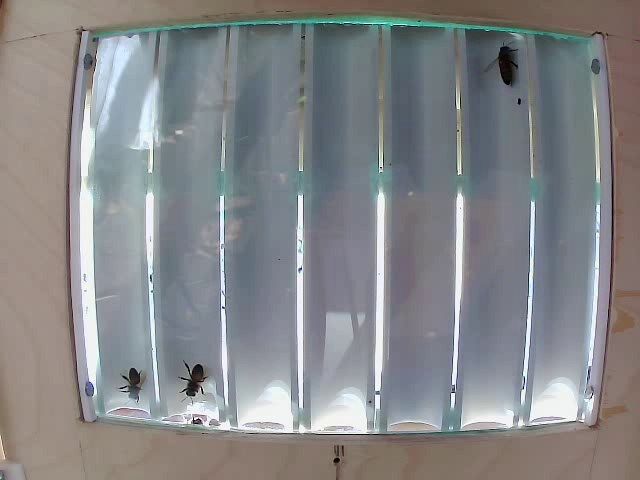bee: (183, 354, 229, 403), (488, 46, 522, 86), (113, 367, 149, 391)
